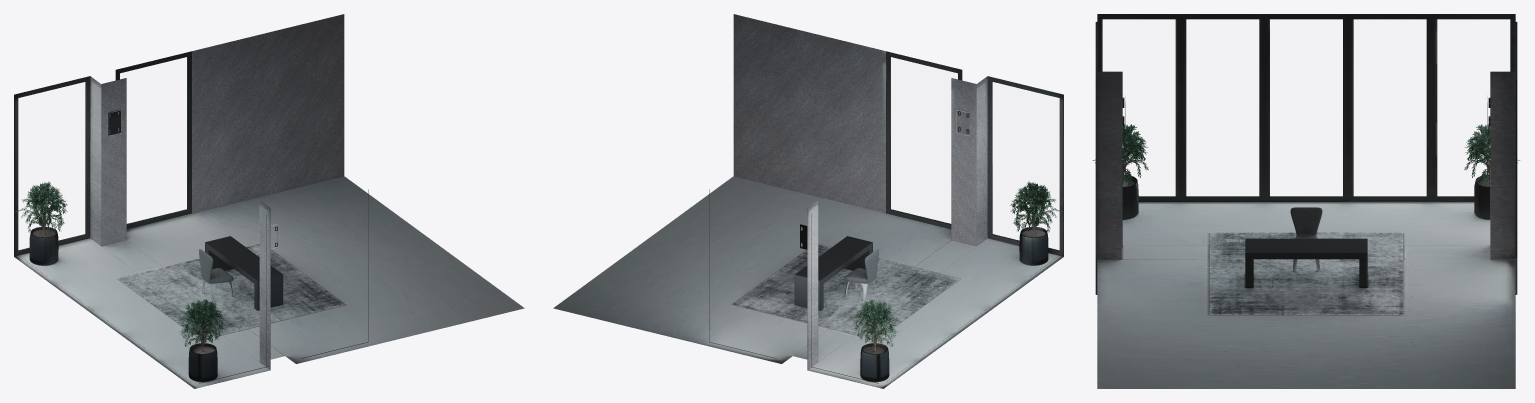
File: office.8c29f4a7.glb
3 views of the same model, side by side, from view 1: azimuth 30°, elevation 25°; view 2: azimuth 150°, elevation 25°; view 3: azimuth 270°, elevation 25° (orthographic). The views are drawn at different scales.
Parts seen in each view (by area): view 1: Minimalistic Modern Office, Carpet; view 2: Minimalistic Modern Office, Carpet; view 3: Minimalistic Modern Office, Carpet.
Boxes of the visible parts, bbox=[...] form: Minimalistic Modern Office: bbox=[14, 14, 524, 388]; Carpet: bbox=[117, 244, 345, 338]; Minimalistic Modern Office: bbox=[553, 14, 1063, 388]; Carpet: bbox=[732, 244, 960, 338]; Minimalistic Modern Office: bbox=[1092, 14, 1520, 388]; Carpet: bbox=[1209, 232, 1403, 314].
Bounding box in the file's own units: 9.29 × 4.31 × 8.9.
8 materials, 6 textured.
